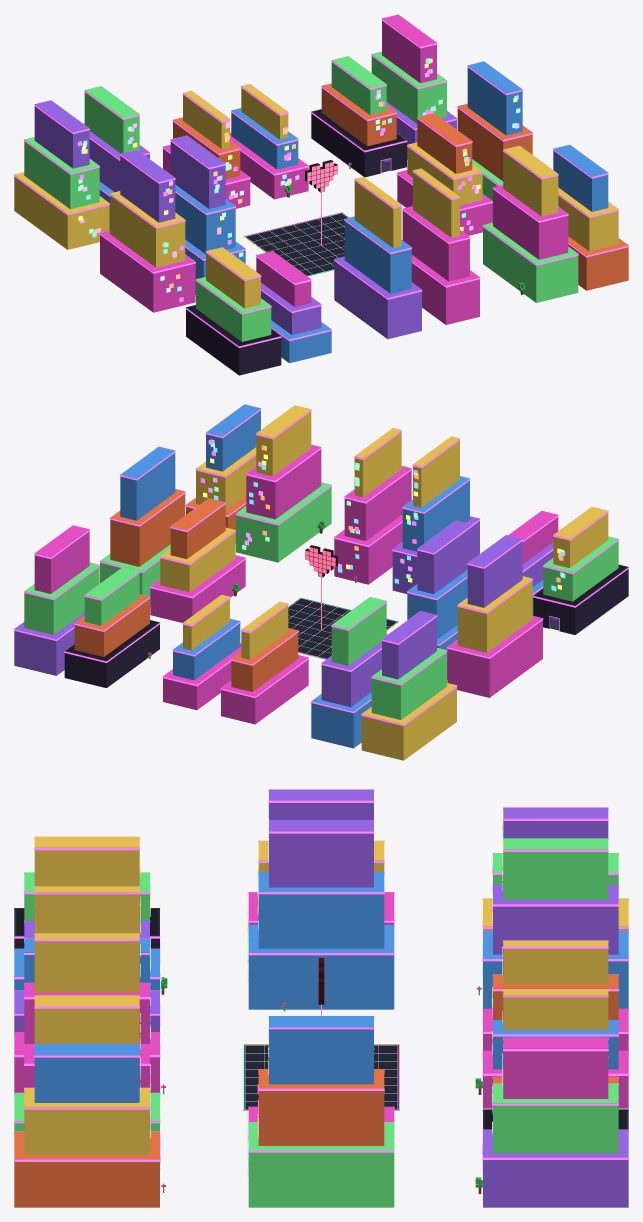
3 renders of one model, top to bottom at view 1: azimuth 30°, elevation 25°; view 2: azimuth 150°, elevation 25°; view 3: azimuth 270°, elevation 25°, orthographic. The views are drawn at different scales.
Parts seen in each view (by area): view 1: district_city_pixel.lod0; view 2: district_city_pixel.lod0; view 3: district_city_pixel.lod0.
Part boxes in pixels (<box>): district_city_pixel.lod0: <box>14,14,628,375</box>; district_city_pixel.lod0: <box>14,404,628,760</box>; district_city_pixel.lod0: <box>14,789,628,1207</box>.
Bounding box in the file's own units: 97.1 × 29.96 × 97.1.
